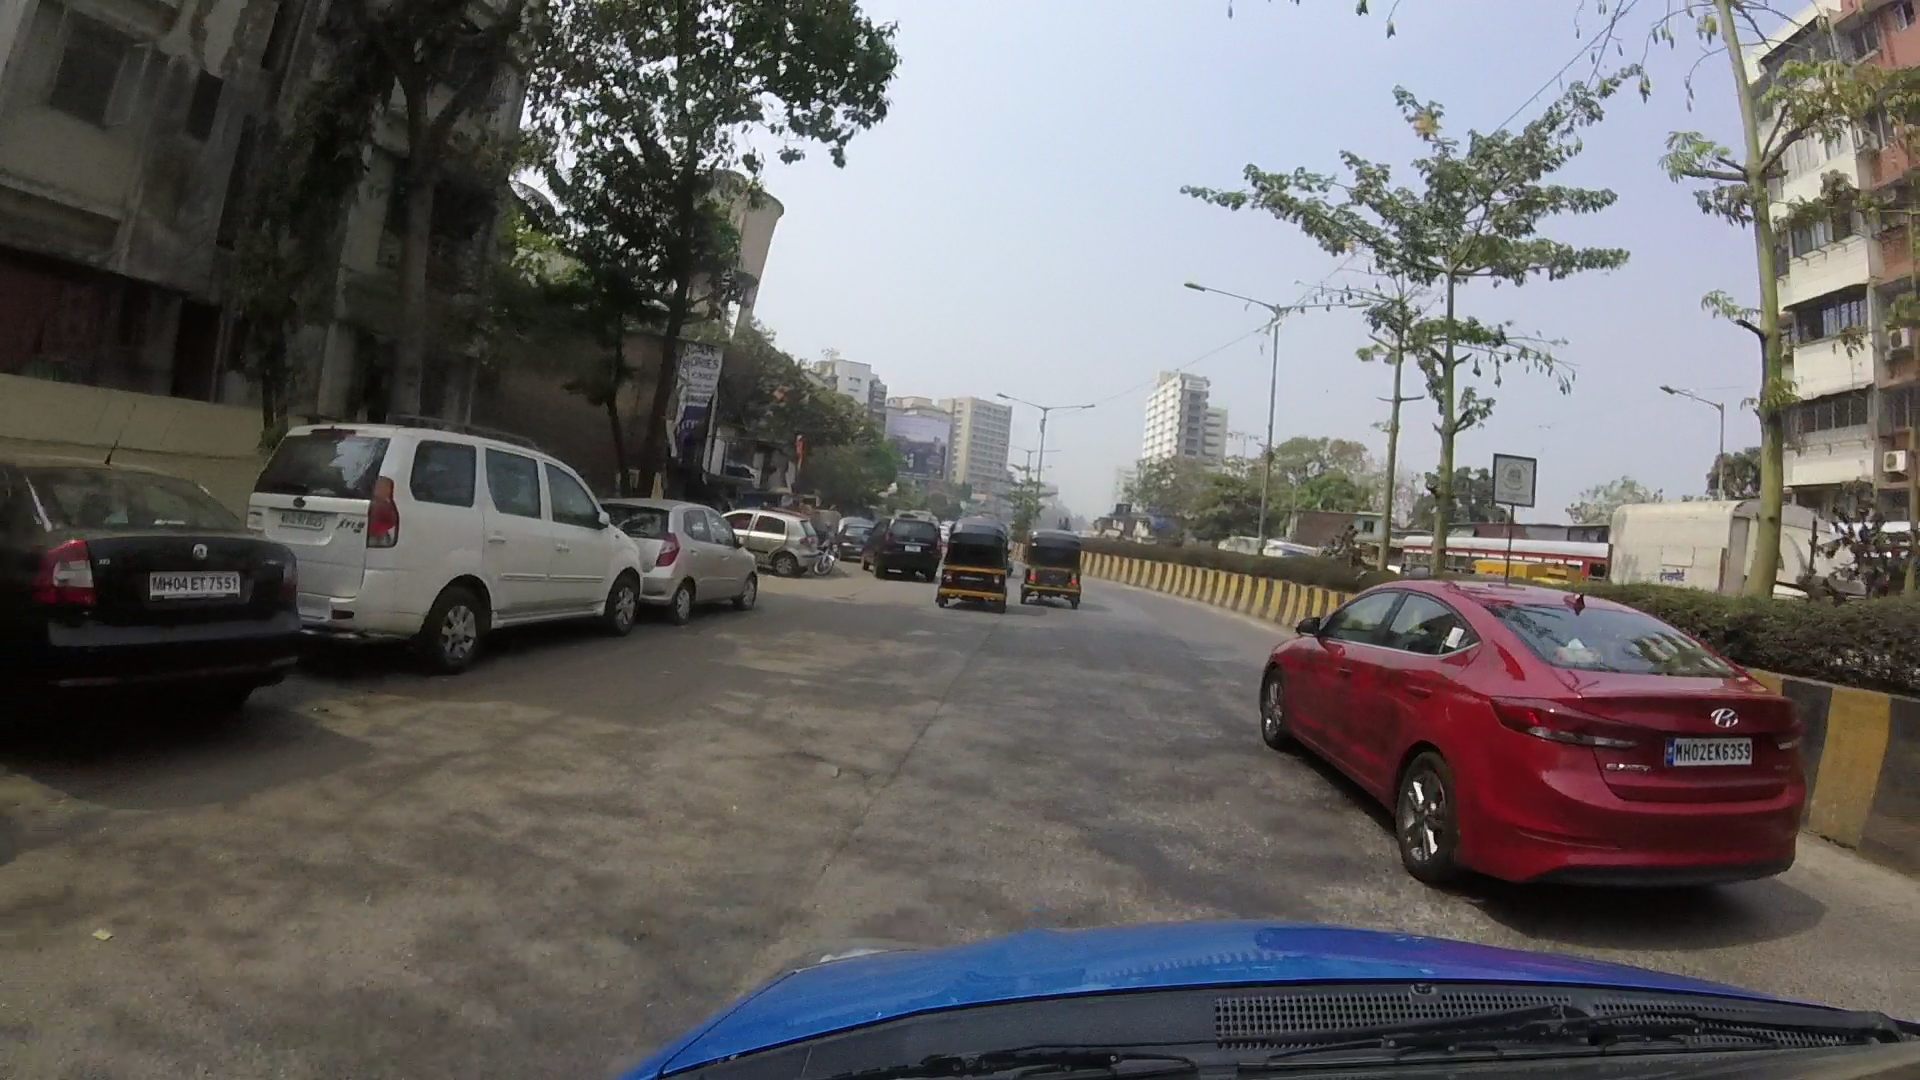bus: (1389, 516, 1618, 582)
car: (1255, 553, 1826, 877), (252, 394, 640, 630), (3, 442, 315, 694), (611, 473, 762, 611), (733, 484, 822, 567), (851, 506, 945, 578), (866, 504, 947, 583)
rickshaw: (928, 514, 1021, 609), (1025, 508, 1088, 618)
truck: (1597, 487, 1807, 592)
